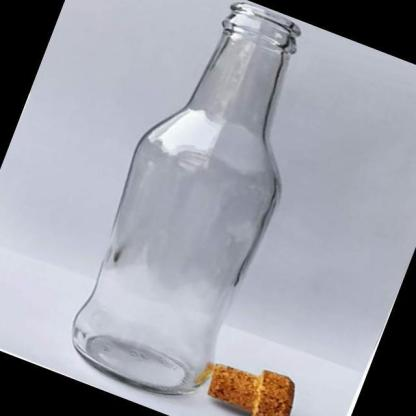Can: (71, 2, 301, 399)
